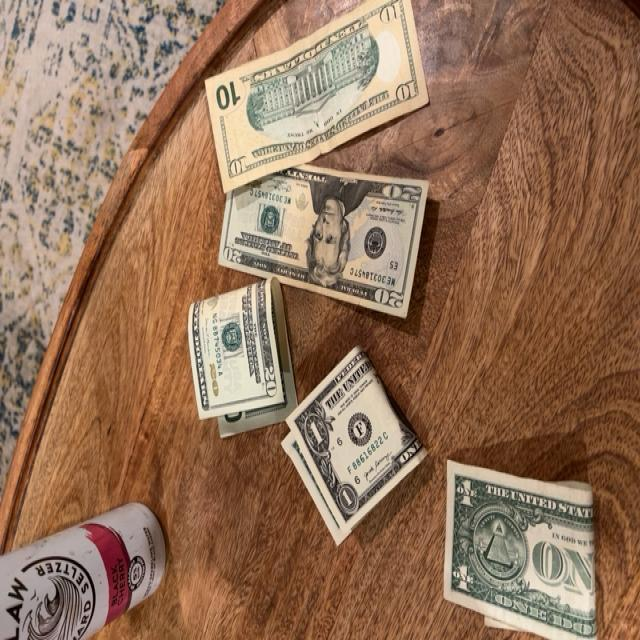one: (282, 346, 429, 546), (443, 460, 599, 640)
ten: (204, 0, 429, 192)
twenty: (218, 164, 429, 318), (188, 277, 298, 438)
